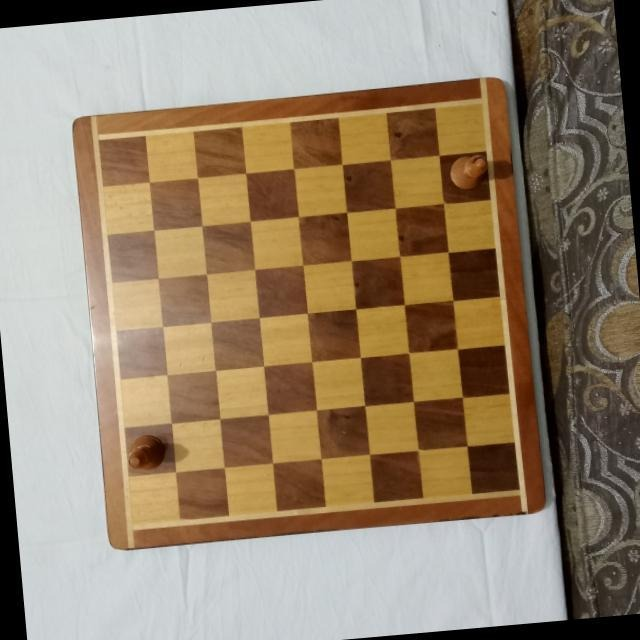white-bishop: (124, 429, 168, 473), (446, 151, 490, 193)
